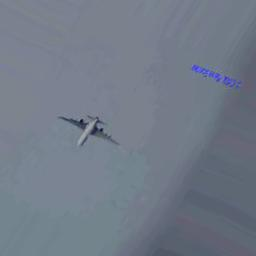Airplane: (58, 113, 121, 150)
